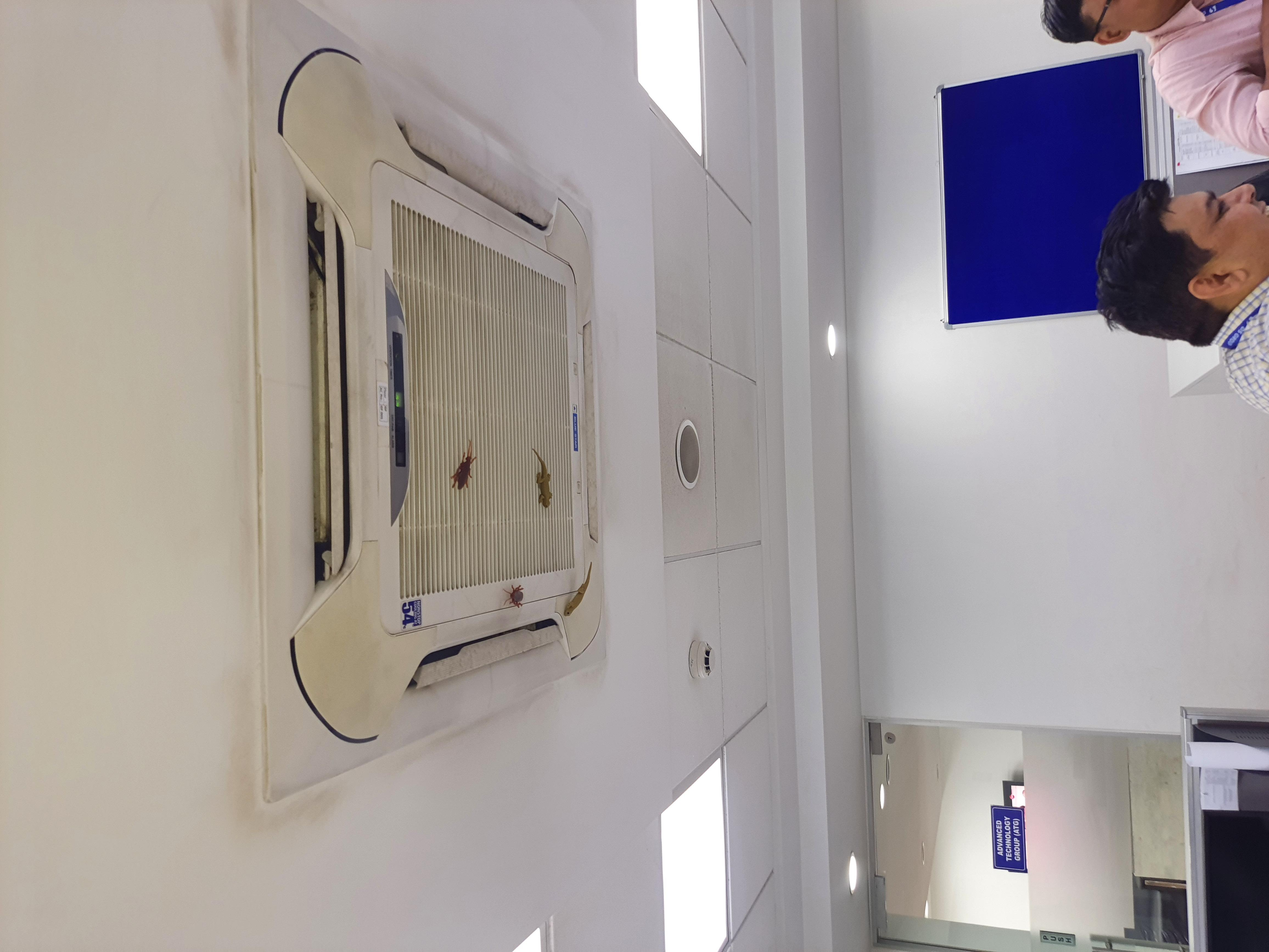cockroach: (607, 334, 696, 361), (458, 372, 505, 409)
lizard: (435, 417, 533, 455), (576, 396, 683, 424)
